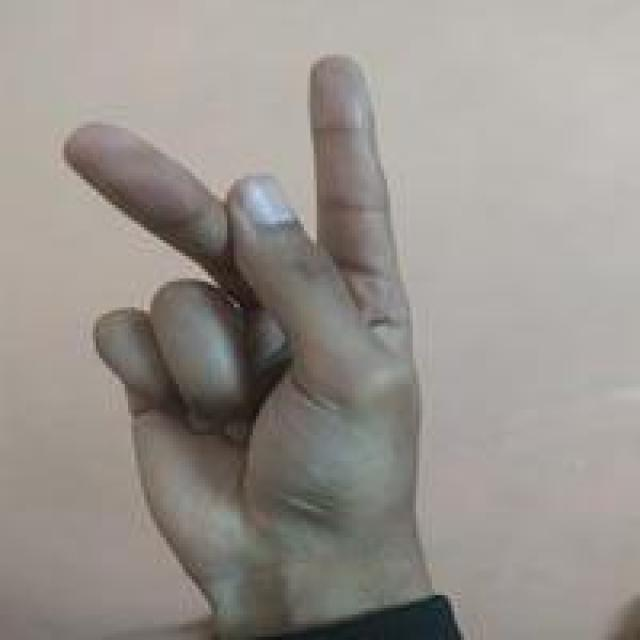K: (54, 51, 448, 592)
